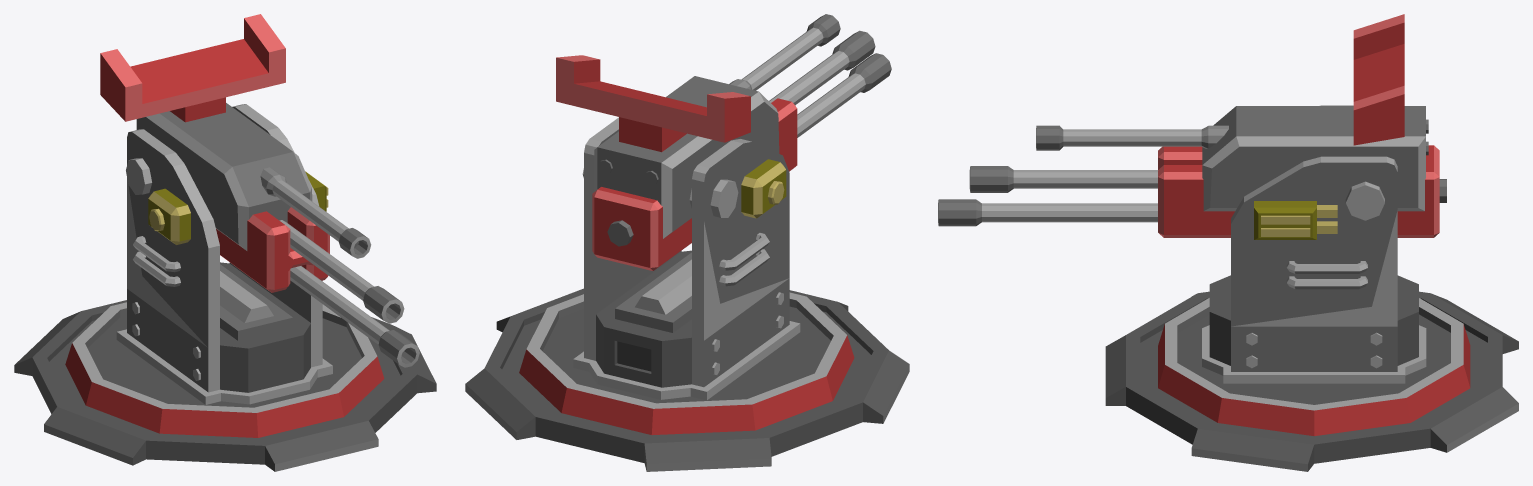
Rendered from tower_machinegun_red_3.fbx.
The picture shows the model from 3 angles, left to right: view 1: azimuth 30°, elevation 25°; view 2: azimuth 150°, elevation 25°; view 3: azimuth 270°, elevation 25°; orthographic projection. The views are drawn at different scales.
Parts seen in each view (by area): view 1: top_machinegun_red_3, tower_machinegun_red_3; view 2: top_machinegun_red_3, tower_machinegun_red_3; view 3: top_machinegun_red_3, tower_machinegun_red_3.
Part boxes in pixels (x1=…): top_machinegun_red_3: x1=65, y1=14, x2=419, y2=437; tower_machinegun_red_3: x1=14, y1=300, x2=436, y2=471; top_machinegun_red_3: x1=519, y1=14, x2=891, y2=435; tower_machinegun_red_3: x1=465, y1=288, x2=909, y2=471; top_machinegun_red_3: x1=938, y1=14, x2=1470, y2=436; tower_machinegun_red_3: x1=1105, y1=291, x2=1518, y2=471.
Size of the model in its own units: 172 by 142 by 229.
